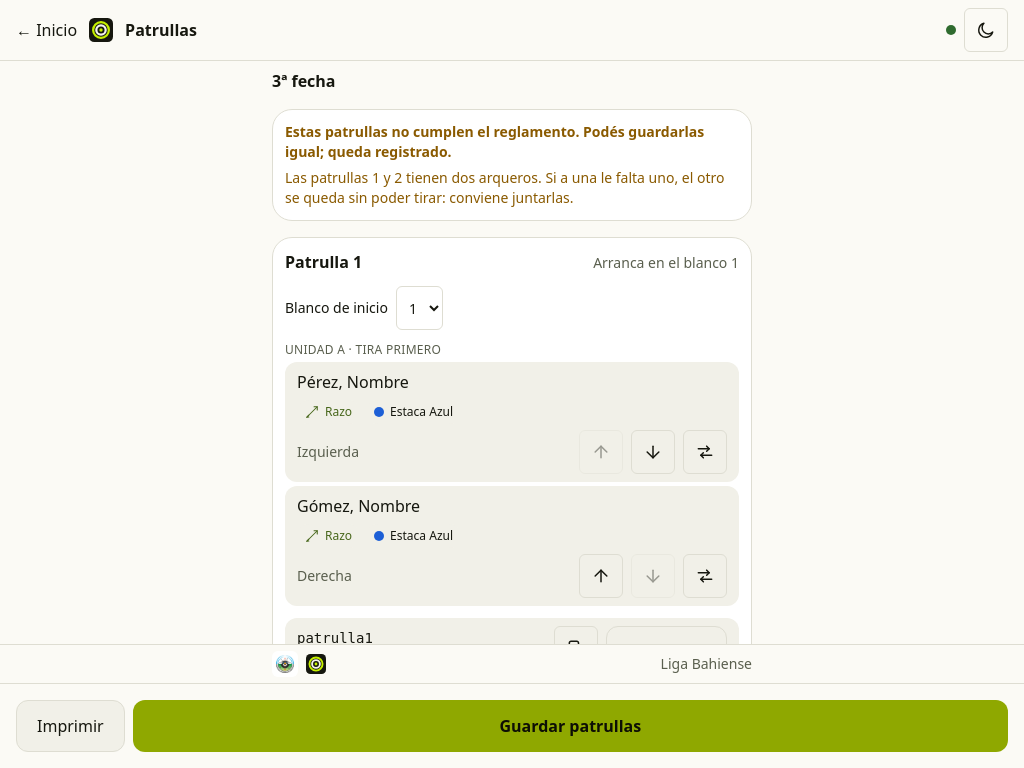
Test case: edición manual › cambia el blanco de inicio
Expected: the element with test id "patrulla-1" is shown, [272, 237, 752, 644]
Select "4" in the dropdown named "Blanco de inicio de la patrulla 1": (419, 308) [396, 286, 443, 330]
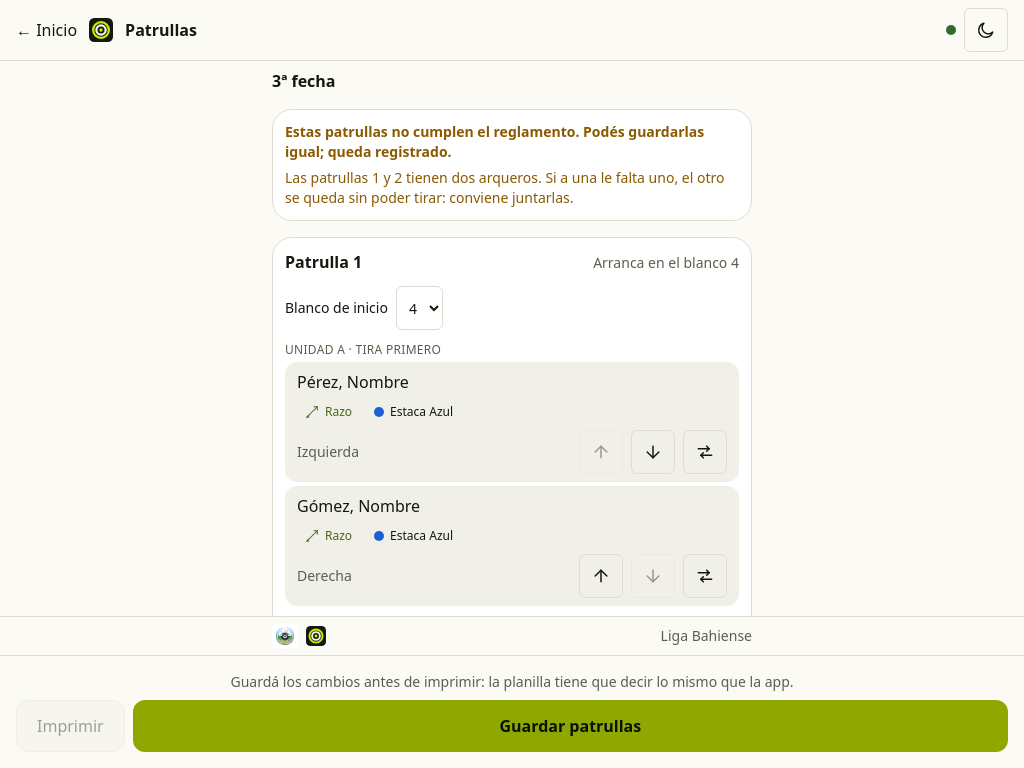
Expected: the element with test id "patrulla-1" shows "Arranca en el blanco 4", [272, 237, 752, 616]
